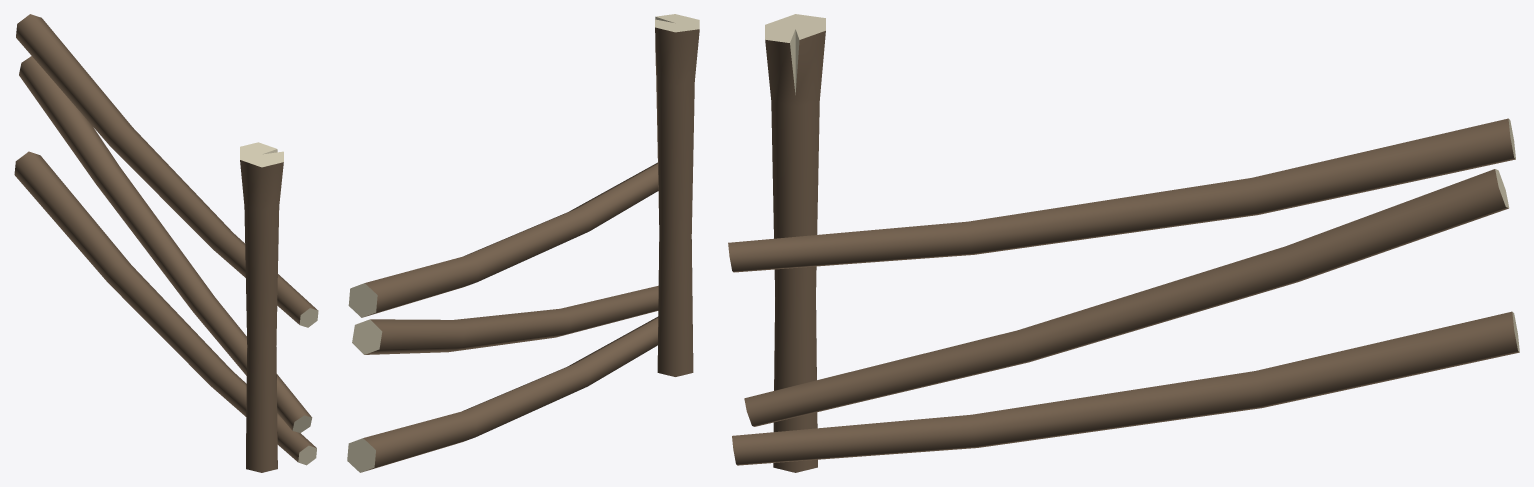
The model's file is P_Fence_01_LD.fbx.
3 views of the same model, side by side, from view 1: azimuth 30°, elevation 25°; view 2: azimuth 150°, elevation 25°; view 3: azimuth 270°, elevation 25° (orthographic). The views are drawn at different scales.
Parts seen in each view (by area): view 1: P_Fence_01; view 2: P_Fence_01; view 3: P_Fence_01.
Boxes of the visible parts, left/top/right/bottom form: P_Fence_01: left=14, top=14, right=318, bottom=472; P_Fence_01: left=347, top=14, right=699, bottom=472; P_Fence_01: left=728, top=14, right=1519, bottom=472.
Bounding box in the file's own units: 25.82 × 133 × 218.
Materials: 1 (1 with a texture image).
